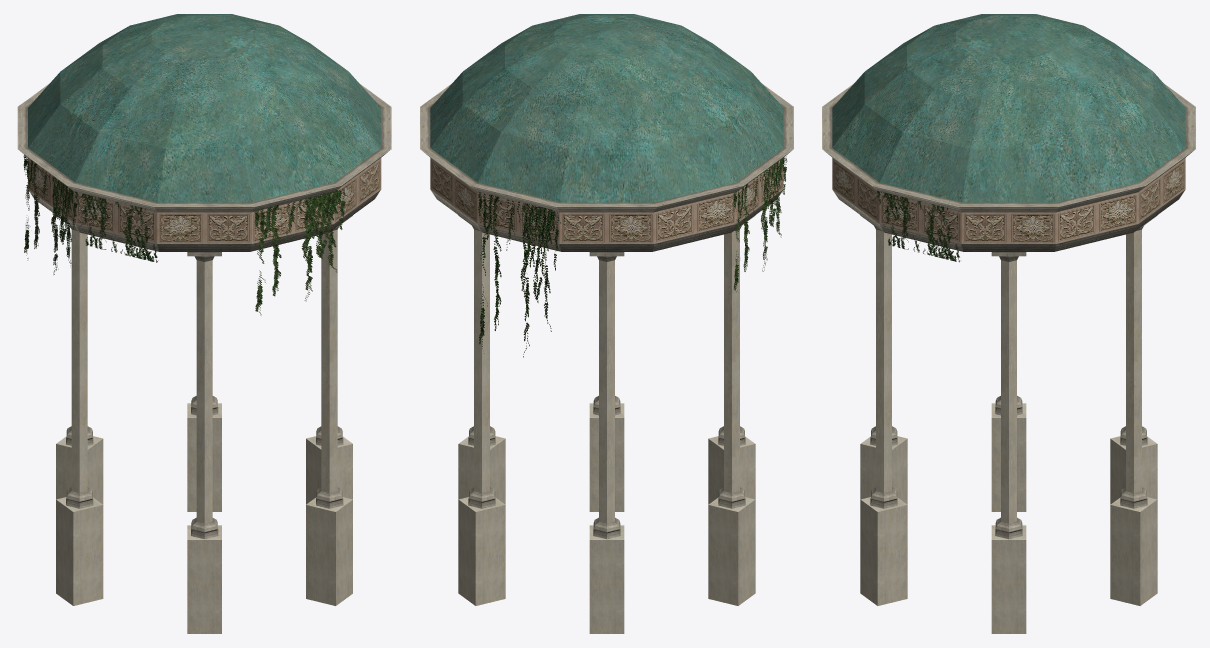
The model's file is thm_nboo_imprv_garden_gazebo_sml_s01_l0.fbx.
3 renders of one model, left to right at view 1: azimuth 30°, elevation 25°; view 2: azimuth 150°, elevation 25°; view 3: azimuth 270°, elevation 25°, orthographic.
Parts seen in each view (by area): view 1: mesh_node; view 2: mesh_node; view 3: mesh_node.
Boxes of the visible parts, <box> form: mesh_node: <box>17,14,391,633</box>; mesh_node: <box>420,14,793,633</box>; mesh_node: <box>822,14,1195,633</box>.
Size of the model in its own units: 7.91 by 12.47 by 7.91.
